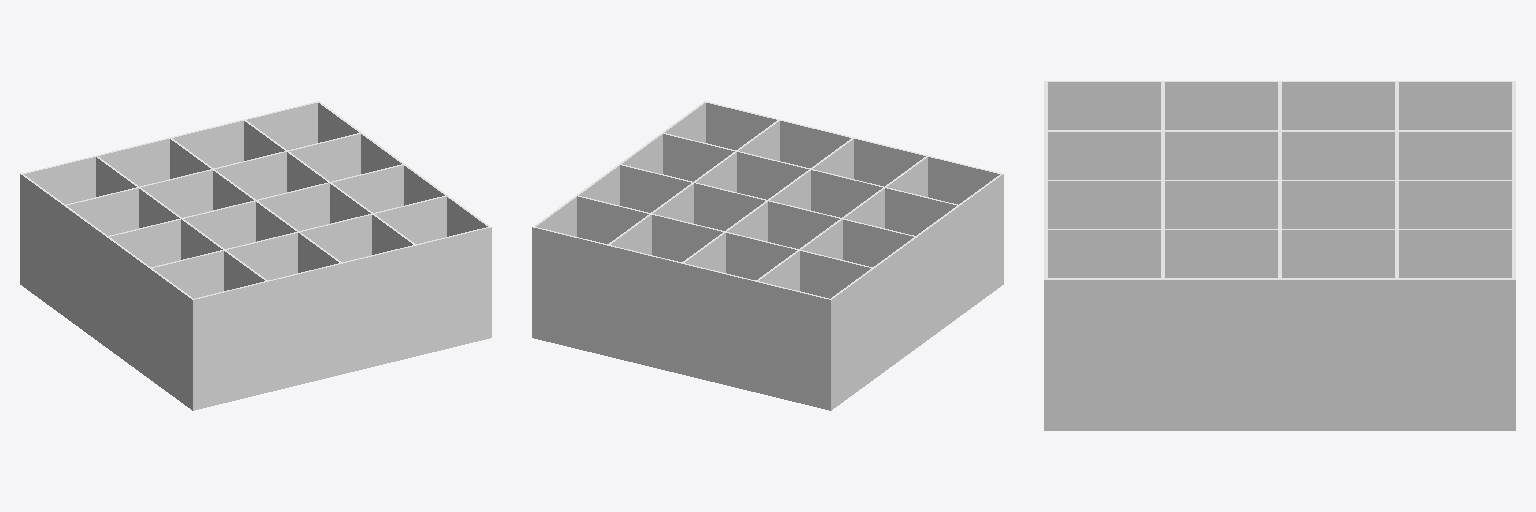
--- What the picture shows (computed from the rendered views, not written in the file) ---
Views: 3 orthographic renders of the robot side by side, from view 1: azimuth 30°, elevation 25°; view 2: azimuth 150°, elevation 25°; view 3: azimuth 270°, elevation 25°.
Model maze with 41 links and 40 joints (40 fixed), rooted at base_link, posed all joints at 0.
Visible links, largest first — view 1: link_6, link_0, link_2, link_4, link_28, link_1, link_10, link_19, link_27, link_29, link_15, link_20 (+28 smaller); view 2: link_29, link_32, link_39, link_35, link_28, link_1, link_19, link_10, link_0, link_18, link_9, link_20 (+28 smaller); view 3: link_8, link_38, link_17, link_26, link_12, link_21, link_3, link_31, link_1, link_10, link_16, link_19 (+9 smaller).
Link boxes in pixels (x1=…): link_6: x1=415, y1=227, x2=491, y2=356; link_0: x1=192, y1=281, x2=268, y2=410; link_2: x1=266, y1=263, x2=342, y2=391; link_4: x1=341, y1=245, x2=416, y2=373; link_28: x1=20, y1=174, x2=65, y2=315; link_1: x1=149, y1=268, x2=194, y2=409; link_10: x1=106, y1=237, x2=150, y2=377; link_19: x1=65, y1=206, x2=107, y2=347; link_27: x1=64, y1=187, x2=140, y2=316; link_29: x1=20, y1=155, x2=96, y2=283; link_15: x1=372, y1=195, x2=447, y2=243; link_20: x1=183, y1=200, x2=255, y2=248; link_29: x1=755, y1=281, x2=831, y2=409; link_32: x1=681, y1=263, x2=757, y2=391; link_39: x1=532, y1=227, x2=608, y2=355; link_35: x1=607, y1=245, x2=682, y2=373; link_28: x1=829, y1=268, x2=873, y2=410; link_1: x1=958, y1=174, x2=1003, y2=315; link_19: x1=873, y1=236, x2=917, y2=378; link_10: x1=917, y1=206, x2=958, y2=346; link_0: x1=928, y1=156, x2=1003, y2=284; link_18: x1=843, y1=219, x2=917, y2=346; link_9: x1=884, y1=187, x2=959, y2=316; link_20: x1=768, y1=201, x2=840, y2=248; link_8: x1=1044, y1=278, x2=1164, y2=430; link_38: x1=1395, y1=278, x2=1515, y2=430; link_17: x1=1161, y1=278, x2=1281, y2=430; link_26: x1=1278, y1=278, x2=1398, y2=430; link_12: x1=1161, y1=130, x2=1280, y2=179; link_21: x1=1281, y1=130, x2=1398, y2=179; link_3: x1=1048, y1=130, x2=1164, y2=179; link_31: x1=1399, y1=130, x2=1514, y2=179; link_1: x1=1048, y1=81, x2=1164, y2=129; link_10: x1=1165, y1=81, x2=1281, y2=129; link_16: x1=1165, y1=229, x2=1281, y2=277; link_19: x1=1282, y1=81, x2=1398, y2=129.
Bounding box of the posed robot: 1.41 × 1.41 × 0.5 m (x, y, z).
Geometry: primitives only (box / cylinder / sphere), no mesh files.

URDF robot description (maze):

        <robot name="maze">
            <link name="base_link">
               
            </link>
        
                <link name="link_0">
                    <visual>
                        <origin rpy="0 0 0" xyz="0.185 0.01 0.25"/>
                        <geometry>
                            <box size="0.36 0.01 0.5"/>
                        </geometry>
                        <material name="white">
                            <color rgba="1 1 1 1"/>
                        </material>
                    </visual>
                    <collision>
                        <origin rpy="0 0 0" xyz="0.185 0.01 0.25"/>
                        <geometry>
                            <box size="0.36 0.01 0.5"/>
                        </geometry>
                    </collision>
                </link>
                <joint name="joint_0" type="fixed">
                    <parent link="base_link"/>
                    <child link="link_0"/>
                    <origin xyz="0 0 0" rpy="0 0 0"/>
                </joint>
                
                <link name="link_1">
                    <visual>
                        <origin rpy="0 0 0" xyz="0.01 0.185 0.25"/>
                        <geometry>
                            <box size="0.01 0.36 0.5"/>
                        </geometry>
                        <material name="white">
                            <color rgba="1 1 1 1"/>
                        </material>
                    </visual>
                    <collision>
                        <origin rpy="0 0 0" xyz="0.01 0.185 0.25"/>
                        <geometry>
                            <box size="0.01 0.36 0.5"/>
                        </geometry>
                    </collision>
                </link>
                <joint name="joint_1" type="fixed">
                    <parent link="base_link"/>
                    <child link="link_1"/>
                    <origin xyz="0 0 0" rpy="0 0 0"/>
                </joint>
                
                <link name="link_2">
                    <visual>
                        <origin rpy="0 0 0" xyz="0.5349999999999999 0.01 0.25"/>
                        <geometry>
                            <box size="0.36 0.01 0.5"/>
                        </geometry>
                        <material name="white">
                            <color rgba="1 1 1 1"/>
                        </material>
                    </visual>
                    <collision>
                        <origin rpy="0 0 0" xyz="0.5349999999999999 0.01 0.25"/>
                        <geometry>
                            <box size="0.36 0.01 0.5"/>
                        </geometry>
                    </collision>
                </link>
                <joint name="joint_2" type="fixed">
                    <parent link="base_link"/>
                    <child link="link_2"/>
                    <origin xyz="0 0 0" rpy="0 0 0"/>
                </joint>
                
                <link name="link_3">
                    <visual>
                        <origin rpy="0 0 0" xyz="0.36 0.185 0.25"/>
                        <geometry>
                            <box size="0.01 0.36 0.5"/>
                        </geometry>
                        <material name="white">
                            <color rgba="1 1 1 1"/>
                        </material>
                    </visual>
                    <collision>
                        <origin rpy="0 0 0" xyz="0.36 0.185 0.25"/>
                        <geometry>
                            <box size="0.01 0.36 0.5"/>
                        </geometry>
                    </collision>
                </link>
                <joint name="joint_3" type="fixed">
                    <parent link="base_link"/>
                    <child link="link_3"/>
                    <origin xyz="0 0 0" rpy="0 0 0"/>
                </joint>
                
                <link name="link_4">
                    <visual>
                        <origin rpy="0 0 0" xyz="0.885 0.01 0.25"/>
                        <geometry>
                            <box size="0.36 0.01 0.5"/>
                        </geometry>
                        <material name="white">
                            <color rgba="1 1 1 1"/>
                        </material>
                    </visual>
                    <collision>
                        <origin rpy="0 0 0" xyz="0.885 0.01 0.25"/>
                        <geometry>
                            <box size="0.36 0.01 0.5"/>
                        </geometry>
                    </collision>
                </link>
                <joint name="joint_4" type="fixed">
                    <parent link="base_link"/>
                    <child link="link_4"/>
                    <origin xyz="0 0 0" rpy="0 0 0"/>
                </joint>
                
                <link name="link_5">
                    <visual>
                        <origin rpy="0 0 0" xyz="0.71 0.185 0.25"/>
                        <geometry>
                            <box size="0.01 0.36 0.5"/>
                        </geometry>
                        <material name="white">
                            <color rgba="1 1 1 1"/>
                        </material>
                    </visual>
                    <collision>
                        <origin rpy="0 0 0" xyz="0.71 0.185 0.25"/>
                        <geometry>
                            <box size="0.01 0.36 0.5"/>
                        </geometry>
                    </collision>
                </link>
                <joint name="joint_5" type="fixed">
                    <parent link="base_link"/>
                    <child link="link_5"/>
                    <origin xyz="0 0 0" rpy="0 0 0"/>
                </joint>
                
                <link name="link_6">
                    <visual>
                        <origin rpy="0 0 0" xyz="1.2349999999999999 0.01 0.25"/>
                        <geometry>
                            <box size="0.36 0.01 0.5"/>
                        </geometry>
                        <material name="white">
                            <color rgba="1 1 1 1"/>
                        </material>
                    </visual>
                    <collision>
                        <origin rpy="0 0 0" xyz="1.2349999999999999 0.01 0.25"/>
                        <geometry>
                            <box size="0.36 0.01 0.5"/>
                        </geometry>
                    </collision>
                </link>
                <joint name="joint_6" type="fixed">
                    <parent link="base_link"/>
                    <child link="link_6"/>
                    <origin xyz="0 0 0" rpy="0 0 0"/>
                </joint>
                
                <link name="link_7">
                    <visual>
                        <origin rpy="0 0 0" xyz="1.0599999999999998 0.185 0.25"/>
                        <geometry>
                            <box size="0.01 0.36 0.5"/>
                        </geometry>
                        <material name="white">
                            <color rgba="1 1 1 1"/>
                        </material>
                    </visual>
                    <collision>
                        <origin rpy="0 0 0" xyz="1.0599999999999998 0.185 0.25"/>
                        <geometry>
                            <box size="0.01 0.36 0.5"/>
                        </geometry>
                    </collision>
                </link>
                <joint name="joint_7" type="fixed">
                    <parent link="base_link"/>
                    <child link="link_7"/>
                    <origin xyz="0 0 0" rpy="0 0 0"/>
                </joint>
                
                <link name="link_8">
                    <visual>
                        <origin rpy="0 0 0" xyz="1.41 0.185 0.25"/>
                        <geometry>
                            <box size="0.01 0.36 0.5"/>
                        </geometry>
                        <material name="white">
                            <color rgba="1 1 1 1"/>
                        </material>
                    </visual>
                    <collision>
                        <origin rpy="0 0 0" xyz="1.41 0.185 0.25"/>
                        <geometry>
                            <box size="0.01 0.36 0.5"/>
                        </geometry>
                    </collision>
                </link>
                <joint name="joint_8" type="fixed">
                    <parent link="base_link"/>
                    <child link="link_8"/>
                    <origin xyz="0 0 0" rpy="0 0 0"/>
                </joint>
                
                <link name="link_9">
                    <visual>
                        <origin rpy="0 0 0" xyz="0.185 0.36 0.25"/>
                        <geometry>
                            <box size="0.36 0.01 0.5"/>
                        </geometry>
                        <material name="white">
                            <color rgba="1 1 1 1"/>
                        </material>
                    </visual>
                    <collision>
                        <origin rpy="0 0 0" xyz="0.185 0.36 0.25"/>
                        <geometry>
                            <box size="0.36 0.01 0.5"/>
                        </geometry>
                    </collision>
                </link>
                <joint name="joint_9" type="fixed">
                    <parent link="base_link"/>
                    <child link="link_9"/>
                    <origin xyz="0 0 0" rpy="0 0 0"/>
                </joint>
                
                <link name="link_10">
                    <visual>
                        <origin rpy="0 0 0" xyz="0.01 0.5349999999999999 0.25"/>
                        <geometry>
                            <box size="0.01 0.36 0.5"/>
                        </geometry>
                        <material name="white">
                            <color rgba="1 1 1 1"/>
                        </material>
                    </visual>
                    <collision>
                        <origin rpy="0 0 0" xyz="0.01 0.5349999999999999 0.25"/>
                        <geometry>
                            <box size="0.01 0.36 0.5"/>
                        </geometry>
                    </collision>
                </link>
                <joint name="joint_10" type="fixed">
                    <parent link="base_link"/>
                    <child link="link_10"/>
                    <origin xyz="0 0 0" rpy="0 0 0"/>
                </joint>
                
                <link name="link_11">
                    <visual>
                        <origin rpy="0 0 0" xyz="0.5349999999999999 0.36 0.25"/>
                        <geometry>
                            <box size="0.36 0.01 0.5"/>
                        </geometry>
                        <material name="white">
                            <color rgba="1 1 1 1"/>
                        </material>
                    </visual>
                    <collision>
                        <origin rpy="0 0 0" xyz="0.5349999999999999 0.36 0.25"/>
                        <geometry>
                            <box size="0.36 0.01 0.5"/>
                        </geometry>
                    </collision>
                </link>
                <joint name="joint_11" type="fixed">
                    <parent link="base_link"/>
                    <child link="link_11"/>
                    <origin xyz="0 0 0" rpy="0 0 0"/>
                </joint>
                
                <link name="link_12">
                    <visual>
                        <origin rpy="0 0 0" xyz="0.36 0.5349999999999999 0.25"/>
                        <geometry>
                            <box size="0.01 0.36 0.5"/>
                        </geometry>
                        <material name="white">
                            <color rgba="1 1 1 1"/>
                        </material>
                    </visual>
                    <collision>
                        <origin rpy="0 0 0" xyz="0.36 0.5349999999999999 0.25"/>
                        <geometry>
                            <box size="0.01 0.36 0.5"/>
                        </geometry>
                    </collision>
                </link>
                <joint name="joint_12" type="fixed">
                    <parent link="base_link"/>
                    <child link="link_12"/>
                    <origin xyz="0 0 0" rpy="0 0 0"/>
                </joint>
                
                <link name="link_13">
                    <visual>
                        <origin rpy="0 0 0" xyz="0.885 0.36 0.25"/>
                        <geometry>
                            <box size="0.36 0.01 0.5"/>
                        </geometry>
                        <material name="white">
                            <color rgba="1 1 1 1"/>
                        </material>
                    </visual>
                    <collision>
                        <origin rpy="0 0 0" xyz="0.885 0.36 0.25"/>
                        <geometry>
                            <box size="0.36 0.01 0.5"/>
                        </geometry>
                    </collision>
                </link>
                <joint name="joint_13" type="fixed">
                    <parent link="base_link"/>
                    <child link="link_13"/>
                    <origin xyz="0 0 0" rpy="0 0 0"/>
                </joint>
                
                <link name="link_14">
                    <visual>
                        <origin rpy="0 0 0" xyz="0.71 0.5349999999999999 0.25"/>
                        <geometry>
                            <box size="0.01 0.36 0.5"/>
                        </geometry>
                        <material name="white">
                            <color rgba="1 1 1 1"/>
                        </material>
                    </visual>
                    <collision>
                        <origin rpy="0 0 0" xyz="0.71 0.5349999999999999 0.25"/>
                        <geometry>
                            <box size="0.01 0.36 0.5"/>
                        </geometry>
                    </collision>
                </link>
                <joint name="joint_14" type="fixed">
                    <parent link="base_link"/>
                    <child link="link_14"/>
                    <origin xyz="0 0 0" rpy="0 0 0"/>
                </joint>
                
                <link name="link_15">
                    <visual>
                        <origin rpy="0 0 0" xyz="1.2349999999999999 0.36 0.25"/>
                        <geometry>
                            <box size="0.36 0.01 0.5"/>
                        </geometry>
                        <material name="white">
                            <color rgba="1 1 1 1"/>
                        </material>
                    </visual>
                    <collision>
                        <origin rpy="0 0 0" xyz="1.2349999999999999 0.36 0.25"/>
                        <geometry>
                            <box size="0.36 0.01 0.5"/>
                        </geometry>
                    </collision>
                </link>
                <joint name="joint_15" type="fixed">
                    <parent link="base_link"/>
                    <child link="link_15"/>
                    <origin xyz="0 0 0" rpy="0 0 0"/>
                </joint>
                
                <link name="link_16">
                    <visual>
                        <origin rpy="0 0 0" xyz="1.0599999999999998 0.5349999999999999 0.25"/>
                        <geometry>
                            <box size="0.01 0.36 0.5"/>
                        </geometry>
                        <material name="white">
                            <color rgba="1 1 1 1"/>
                        </material>
                    </visual>
                    <collision>
                        <origin rpy="0 0 0" xyz="1.0599999999999998 0.5349999999999999 0.25"/>
                        <geometry>
                            <box size="0.01 0.36 0.5"/>
                        </geometry>
                    </collision>
                </link>
                <joint name="joint_16" type="fixed">
                    <parent link="base_link"/>
                    <child link="link_16"/>
                    <origin xyz="0 0 0" rpy="0 0 0"/>
                </joint>
                
                <link name="link_17">
                    <visual>
                        <origin rpy="0 0 0" xyz="1.41 0.5349999999999999 0.25"/>
                        <geometry>
                            <box size="0.01 0.36 0.5"/>
                        </geometry>
                        <material name="white">
                            <color rgba="1 1 1 1"/>
                        </material>
                    </visual>
                    <collision>
                        <origin rpy="0 0 0" xyz="1.41 0.5349999999999999 0.25"/>
                        <geometry>
                            <box size="0.01 0.36 0.5"/>
                        </geometry>
                    </collision>
                </link>
                <joint name="joint_17" type="fixed">
                    <parent link="base_link"/>
                    <child link="link_17"/>
                    <origin xyz="0 0 0" rpy="0 0 0"/>
                </joint>
                
                <link name="link_18">
                    <visual>
                        <origin rpy="0 0 0" xyz="0.185 0.71 0.25"/>
                        <geometry>
                            <box size="0.36 0.01 0.5"/>
                        </geometry>
                        <material name="white">
                            <color rgba="1 1 1 1"/>
                        </material>
                    </visual>
                    <collision>
                        <origin rpy="0 0 0" xyz="0.185 0.71 0.25"/>
                        <geometry>
                            <box size="0.36 0.01 0.5"/>
                        </geometry>
                    </collision>
                </link>
                <joint name="joint_18" type="fixed">
                    <parent link="base_link"/>
                    <child link="link_18"/>
                    <origin xyz="0 0 0" rpy="0 0 0"/>
                </joint>
                
                <link name="link_19">
                    <visual>
                        <origin rpy="0 0 0" xyz="0.01 0.885 0.25"/>
                        <geometry>
                            <box size="0.01 0.36 0.5"/>
                        </geometry>
                        <material name="white">
                            <color rgba="1 1 1 1"/>
                        </material>
                    </visual>
                    <collision>
                        <origin rpy="0 0 0" xyz="0.01 0.885 0.25"/>
                        <geometry>
                            <box size="0.01 0.36 0.5"/>
                        </geometry>
                    </collision>
                </link>
                <joint name="joint_19" type="fixed">
                    <parent link="base_link"/>
                    <child link="link_19"/>
                    <origin xyz="0 0 0" rpy="0 0 0"/>
                </joint>
                
                <link name="link_20">
                    <visual>
                        <origin rpy="0 0 0" xyz="0.5349999999999999 0.71 0.25"/>
                        <geometry>
                            <box size="0.36 0.01 0.5"/>
                        </geometry>
                        <material name="white">
                            <color rgba="1 1 1 1"/>
                        </material>
                    </visual>
                    <collision>
                        <origin rpy="0 0 0" xyz="0.5349999999999999 0.71 0.25"/>
                        <geometry>
                            <box size="0.36 0.01 0.5"/>
                        </geometry>
                    </collision>
                </link>
                <joint name="joint_20" type="fixed">
                    <parent link="base_link"/>
                    <child link="link_20"/>
                    <origin xyz="0 0 0" rpy="0 0 0"/>
                </joint>
                
                <link name="link_21">
                    <visual>
                        <origin rpy="0 0 0" xyz="0.36 0.885 0.25"/>
                        <geometry>
                            <box size="0.01 0.36 0.5"/>
                        </geometry>
                        <material name="white">
                            <color rgba="1 1 1 1"/>
                        </material>
                    </visual>
                    <collision>
                        <origin rpy="0 0 0" xyz="0.36 0.885 0.25"/>
                        <geometry>
                            <box size="0.01 0.36 0.5"/>
                        </geometry>
                    </collision>
                </link>
                <joint name="joint_21" type="fixed">
                    <parent link="base_link"/>
                    <child link="link_21"/>
                    <origin xyz="0 0 0" rpy="0 0 0"/>
                </joint>
                
                <link name="link_22">
                    <visual>
                        <origin rpy="0 0 0" xyz="0.885 0.71 0.25"/>
                        <geometry>
                            <box size="0.36 0.01 0.5"/>
                        </geometry>
                        <material name="white">
                            <color rgba="1 1 1 1"/>
                        </material>
                    </visual>
                    <collision>
                        <origin rpy="0 0 0" xyz="0.885 0.71 0.25"/>
                        <geometry>
                            <box size="0.36 0.01 0.5"/>
                        </geometry>
                    </collision>
                </link>
                <joint name="joint_22" type="fixed">
                    <parent link="base_link"/>
                    <child link="link_22"/>
                    <origin xyz="0 0 0" rpy="0 0 0"/>
                </joint>
                
                <link name="link_23">
                    <visual>
                        <origin rpy="0 0 0" xyz="0.71 0.885 0.25"/>
                        <geometry>
                            <box size="0.01 0.36 0.5"/>
                        </geometry>
                        <material name="white">
                            <color rgba="1 1 1 1"/>
                        </material>
                    </visual>
                    <collision>
                        <origin rpy="0 0 0" xyz="0.71 0.885 0.25"/>
                        <geometry>
                            <box size="0.01 0.36 0.5"/>
                        </geometry>
                    </collision>
                </link>
                <joint name="joint_23" type="fixed">
                    <parent link="base_link"/>
                    <child link="link_23"/>
                    <origin xyz="0 0 0" rpy="0 0 0"/>
                </joint>
                
                <link name="link_24">
                    <visual>
                        <origin rpy="0 0 0" xyz="1.2349999999999999 0.71 0.25"/>
                        <geometry>
                            <box size="0.36 0.01 0.5"/>
                        </geometry>
                        <material name="white">
                            <color rgba="1 1 1 1"/>
                        </material>
                    </visual>
                    <collision>
                        <origin rpy="0 0 0" xyz="1.2349999999999999 0.71 0.25"/>
                        <geometry>
                            <box size="0.36 0.01 0.5"/>
                        </geometry>
                    </collision>
                </link>
                <joint name="joint_24" type="fixed">
                    <parent link="base_link"/>
                    <child link="link_24"/>
                    <origin xyz="0 0 0" rpy="0 0 0"/>
                </joint>
                
                <link name="link_25">
                    <visual>
                        <origin rpy="0 0 0" xyz="1.0599999999999998 0.885 0.25"/>
                        <geometry>
                            <box size="0.01 0.36 0.5"/>
                        </geometry>
                        <material name="white">
                            <color rgba="1 1 1 1"/>
                        </material>
                    </visual>
                    <collision>
                        <origin rpy="0 0 0" xyz="1.0599999999999998 0.885 0.25"/>
                        <geometry>
                            <box size="0.01 0.36 0.5"/>
                        </geometry>
                    </collision>
                </link>
                <joint name="joint_25" type="fixed">
                    <parent link="base_link"/>
                    <child link="link_25"/>
                    <origin xyz="0 0 0" rpy="0 0 0"/>
                </joint>
                
                <link name="link_26">
                    <visual>
                        <origin rpy="0 0 0" xyz="1.41 0.885 0.25"/>
                        <geometry>
                            <box size="0.01 0.36 0.5"/>
                        </geometry>
                        <material name="white">
                            <color rgba="1 1 1 1"/>
                        </material>
                    </visual>
                    <collision>
                        <origin rpy="0 0 0" xyz="1.41 0.885 0.25"/>
                        <geometry>
                            <box size="0.01 0.36 0.5"/>
                        </geometry>
                    </collision>
                </link>
                <joint name="joint_26" type="fixed">
                    <parent link="base_link"/>
                    <child link="link_26"/>
                    <origin xyz="0 0 0" rpy="0 0 0"/>
                </joint>
                
                <link name="link_27">
                    <visual>
                        <origin rpy="0 0 0" xyz="0.185 1.0599999999999998 0.25"/>
                        <geometry>
                            <box size="0.36 0.01 0.5"/>
                        </geometry>
                        <material name="white">
                            <color rgba="1 1 1 1"/>
                        </material>
                    </visual>
                    <collision>
                        <origin rpy="0 0 0" xyz="0.185 1.0599999999999998 0.25"/>
                        <geometry>
                            <box size="0.36 0.01 0.5"/>
                        </geometry>
                    </collision>
                </link>
                <joint name="joint_27" type="fixed">
                    <parent link="base_link"/>
                    <child link="link_27"/>
                    <origin xyz="0 0 0" rpy="0 0 0"/>
                </joint>
                
                <link name="link_28">
                    <visual>
                        <origin rpy="0 0 0" xyz="0.01 1.2349999999999999 0.25"/>
                        <geometry>
                            <box size="0.01 0.36 0.5"/>
                        </geometry>
                        <material name="white">
                            <color rgba="1 1 1 1"/>
                        </material>
                    </visual>
                    <collision>
                        <origin rpy="0 0 0" xyz="0.01 1.2349999999999999 0.25"/>
                        <geometry>
                            <box size="0.01 0.36 0.5"/>
                        </geometry>
                    </collision>
                </link>
                <joint name="joint_28" type="fixed">
                    <parent link="base_link"/>
                    <child link="link_28"/>
                    <origin xyz="0 0 0" rpy="0 0 0"/>
                </joint>
                
                <link name="link_29">
                    <visual>
                        <origin rpy="0 0 0" xyz="0.185 1.41 0.25"/>
                        <geometry>
                            <box size="0.36 0.01 0.5"/>
                        </geometry>
                        <material name="white">
                            <color rgba="1 1 1 1"/>
                        </material>
                    </visual>
                    <collision>
                        <origin rpy="0 0 0" xyz="0.185 1.41 0.25"/>
                        <geometry>
                            <box size="0.36 0.01 0.5"/>
                        </geometry>
                    </collision>
                </link>
                <joint name="joint_29" type="fixed">
                    <parent link="base_link"/>
                    <child link="link_29"/>
                    <origin xyz="0 0 0" rpy="0 0 0"/>
                </joint>
                
                <link name="link_30">
                    <visual>
                        <origin rpy="0 0 0" xyz="0.5349999999999999 1.0599999999999998 0.25"/>
                        <geometry>
                            <box size="0.36 0.01 0.5"/>
                        </geometry>
                        <material name="white">
                            <color rgba="1 1 1 1"/>
                        </material>
                    </visual>
                    <collision>
                        <origin rpy="0 0 0" xyz="0.5349999999999999 1.0599999999999998 0.25"/>
                        <geometry>
                            <box size="0.36 0.01 0.5"/>
                        </geometry>
                    </collision>
                </link>
                <joint name="joint_30" type="fixed">
                    <parent link="base_link"/>
                    <child link="link_30"/>
                    <origin xyz="0 0 0" rpy="0 0 0"/>
                </joint>
                
                <link name="link_31">
                    <visual>
                        <origin rpy="0 0 0" xyz="0.36 1.2349999999999999 0.25"/>
                        <geometry>
                            <box size="0.01 0.36 0.5"/>
                        </geometry>
                        <material name="white">
                            <color rgba="1 1 1 1"/>
                        </material>
                    </visual>
                    <collision>
                        <origin rpy="0 0 0" xyz="0.36 1.2349999999999999 0.25"/>
                        <geometry>
                            <box size="0.01 0.36 0.5"/>
                        </geometry>
                    </collision>
                </link>
                <joint name="joint_31" type="fixed">
                    <parent link="base_link"/>
                    <child link="link_31"/>
                    <origin xyz="0 0 0" rpy="0 0 0"/>
                </joint>
                
                <link name="link_32">
                    <visual>
                        <origin rpy="0 0 0" xyz="0.5349999999999999 1.41 0.25"/>
                        <geometry>
                            <box size="0.36 0.01 0.5"/>
                        </geometry>
                        <material name="white">
                            <color rgba="1 1 1 1"/>
                        </material>
                    </visual>
                    <collision>
                        <origin rpy="0 0 0" xyz="0.5349999999999999 1.41 0.25"/>
                        <geometry>
                            <box size="0.36 0.01 0.5"/>
                        </geometry>
                    </collision>
                </link>
                <joint name="joint_32" type="fixed">
                    <parent link="base_link"/>
                    <child link="link_32"/>
                    <origin xyz="0 0 0" rpy="0 0 0"/>
                </joint>
                
                <link name="link_33">
                    <visual>
                        <origin rpy="0 0 0" xyz="0.885 1.0599999999999998 0.25"/>
                        <geometry>
                            <box size="0.36 0.01 0.5"/>
                        </geometry>
                        <material name="white">
                            <color rgba="1 1 1 1"/>
                        </material>
                    </visual>
                    <collision>
                        <origin rpy="0 0 0" xyz="0.885 1.0599999999999998 0.25"/>
                        <geometry>
                            <box size="0.36 0.01 0.5"/>
                        </geometry>
                    </collision>
                </link>
                <joint name="joint_33" type="fixed">
                    <parent link="base_link"/>
                    <child link="link_33"/>
                    <origin xyz="0 0 0" rpy="0 0 0"/>
                </joint>
                
                <link name="link_34">
                    <visual>
                        <origin rpy="0 0 0" xyz="0.71 1.2349999999999999 0.25"/>
                        <geometry>
                            <box size="0.01 0.36 0.5"/>
                        </geometry>
                        <material name="white">
                            <color rgba="1 1 1 1"/>
                        </material>
                    </visual>
                    <collision>
                        <origin rpy="0 0 0" xyz="0.71 1.2349999999999999 0.25"/>
                        <geometry>
                            <box size="0.01 0.36 0.5"/>
                        </geometry>
                    </collision>
                </link>
                <joint name="joint_34" type="fixed">
                    <parent link="base_link"/>
                    <child link="link_34"/>
                    <origin xyz="0 0 0" rpy="0 0 0"/>
                </joint>
                
                <link name="link_35">
                    <visual>
                        <origin rpy="0 0 0" xyz="0.885 1.41 0.25"/>
                        <geometry>
                            <box size="0.36 0.01 0.5"/>
                        </geometry>
                        <material name="white">
                            <color rgba="1 1 1 1"/>
                        </material>
                    </visual>
                    <collision>
                        <origin rpy="0 0 0" xyz="0.885 1.41 0.25"/>
                        <geometry>
                            <box size="0.36 0.01 0.5"/>
                        </geometry>
                    </collision>
                </link>
                <joint name="joint_35" type="fixed">
                    <parent link="base_link"/>
                    <child link="link_35"/>
                    <origin xyz="0 0 0" rpy="0 0 0"/>
                </joint>
                
                <link name="link_36">
                    <visual>
                        <origin rpy="0 0 0" xyz="1.2349999999999999 1.0599999999999998 0.25"/>
                        <geometry>
                            <box size="0.36 0.01 0.5"/>
                        </geometry>
                        <material name="white">
                            <color rgba="1 1 1 1"/>
                        </material>
                    </visual>
                    <collision>
                        <origin rpy="0 0 0" xyz="1.2349999999999999 1.0599999999999998 0.25"/>
                        <geometry>
                            <box size="0.36 0.01 0.5"/>
                        </geometry>
                    </collision>
                </link>
                <joint name="joint_36" type="fixed">
                    <parent link="base_link"/>
                    <child link="link_36"/>
                    <origin xyz="0 0 0" rpy="0 0 0"/>
                </joint>
                
                <link name="link_37">
                    <visual>
                        <origin rpy="0 0 0" xyz="1.0599999999999998 1.2349999999999999 0.25"/>
                        <geometry>
                            <box size="0.01 0.36 0.5"/>
                        </geometry>
                        <material name="white">
                            <color rgba="1 1 1 1"/>
                        </material>
                    </visual>
                    <collision>
                        <origin rpy="0 0 0" xyz="1.0599999999999998 1.2349999999999999 0.25"/>
                        <geometry>
                            <box size="0.01 0.36 0.5"/>
                        </geometry>
                    </collision>
                </link>
                <joint name="joint_37" type="fixed">
                    <parent link="base_link"/>
                    <child link="link_37"/>
                    <origin xyz="0 0 0" rpy="0 0 0"/>
                </joint>
                
                <link name="link_38">
                    <visual>
                        <origin rpy="0 0 0" xyz="1.41 1.2349999999999999 0.25"/>
                        <geometry>
                            <box size="0.01 0.36 0.5"/>
                        </geometry>
                        <material name="white">
                            <color rgba="1 1 1 1"/>
                        </material>
                    </visual>
                    <collision>
                        <origin rpy="0 0 0" xyz="1.41 1.2349999999999999 0.25"/>
                        <geometry>
                            <box size="0.01 0.36 0.5"/>
                        </geometry>
                    </collision>
                </link>
                <joint name="joint_38" type="fixed">
                    <parent link="base_link"/>
                    <child link="link_38"/>
                    <origin xyz="0 0 0" rpy="0 0 0"/>
                </joint>
                
                <link name="link_39">
                    <visual>
                        <origin rpy="0 0 0" xyz="1.2349999999999999 1.41 0.25"/>
                        <geometry>
                            <box size="0.36 0.01 0.5"/>
                        </geometry>
                        <material name="white">
                            <color rgba="1 1 1 1"/>
                        </material>
                    </visual>
                    <collision>
                        <origin rpy="0 0 0" xyz="1.2349999999999999 1.41 0.25"/>
                        <geometry>
                            <box size="0.36 0.01 0.5"/>
                        </geometry>
                    </collision>
                </link>
                <joint name="joint_39" type="fixed">
                    <parent link="base_link"/>
                    <child link="link_39"/>
                    <origin xyz="0 0 0" rpy="0 0 0"/>
                </joint>
                </robot>
